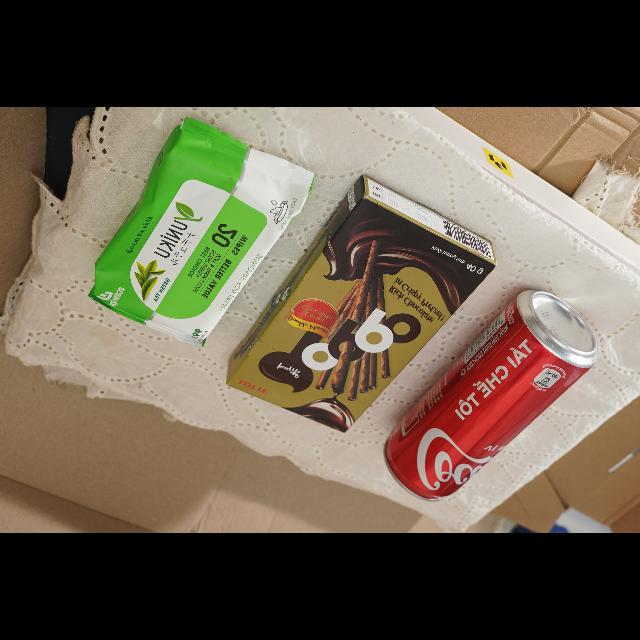banh_toppo_socola: (227, 176, 496, 432), (227, 176, 496, 432)
coca_cola: (384, 290, 597, 501)
khan_giay: (89, 118, 314, 346)
